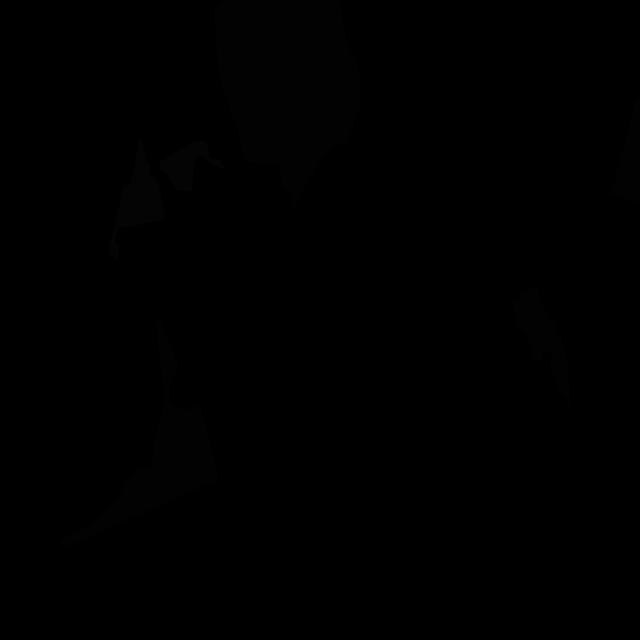cardboard: (60, 310, 219, 547), (214, 0, 362, 209), (512, 285, 570, 407), (611, 97, 640, 202)
soft_plastic: (108, 138, 166, 259), (159, 141, 226, 192)
